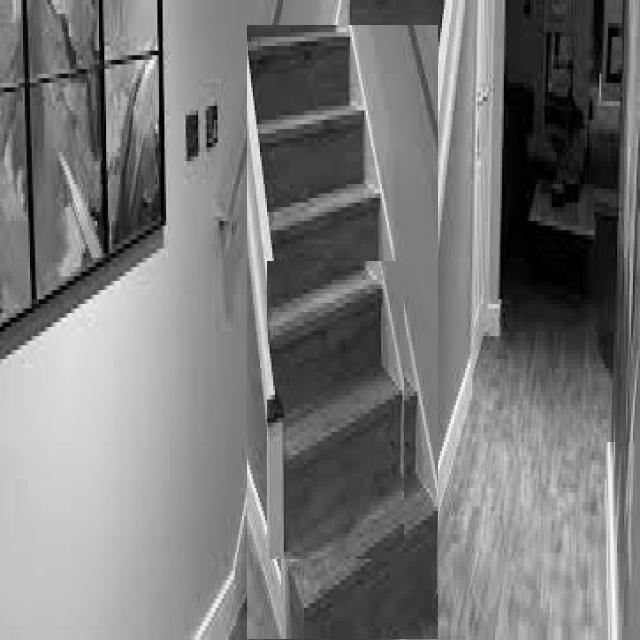ramp: (405, 0, 478, 570)
stair: (248, 26, 438, 640), (267, 262, 404, 559)
